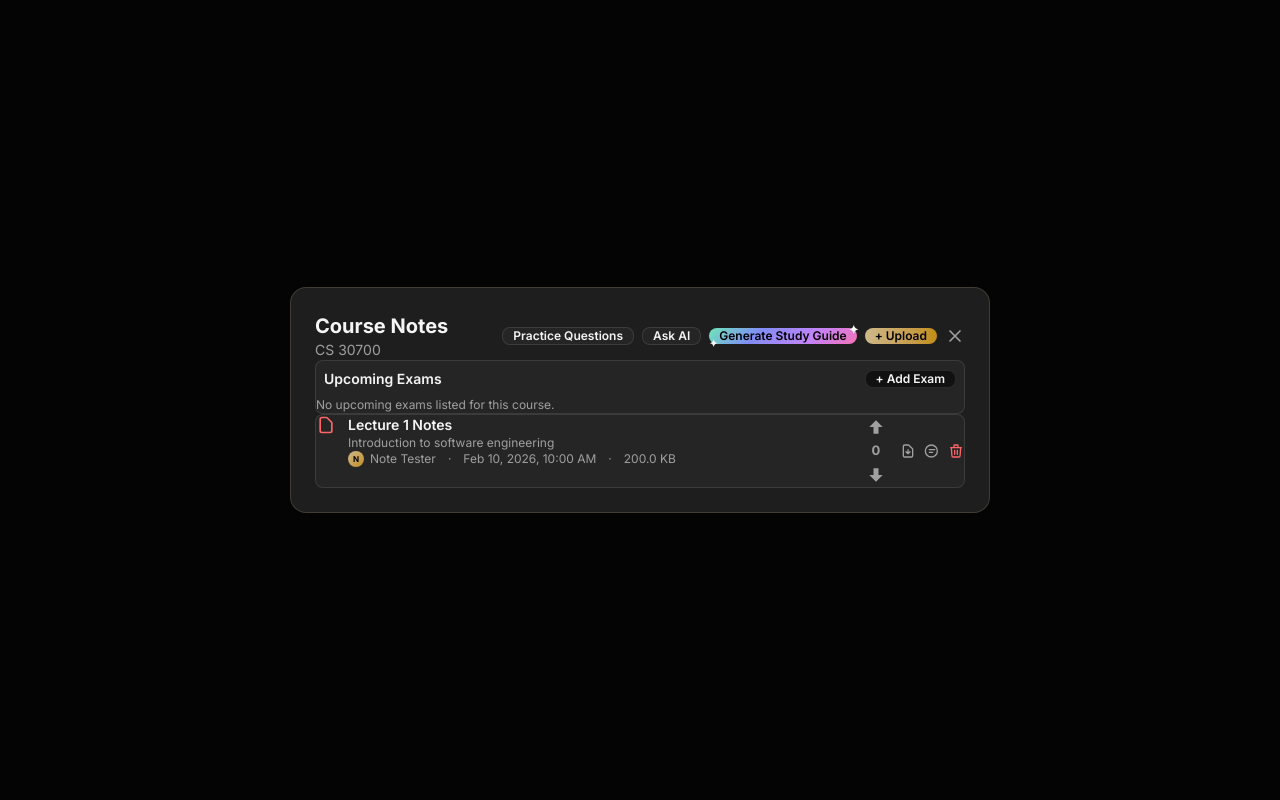
Test: CourseNotes — Actions › deletes a note after confirmation
Expected: the heading "Lecture 1 Notes" is shown, 348,416 -> 452,433
Click the button titled "Delete": click(956, 451) 948,443 -> 964,459
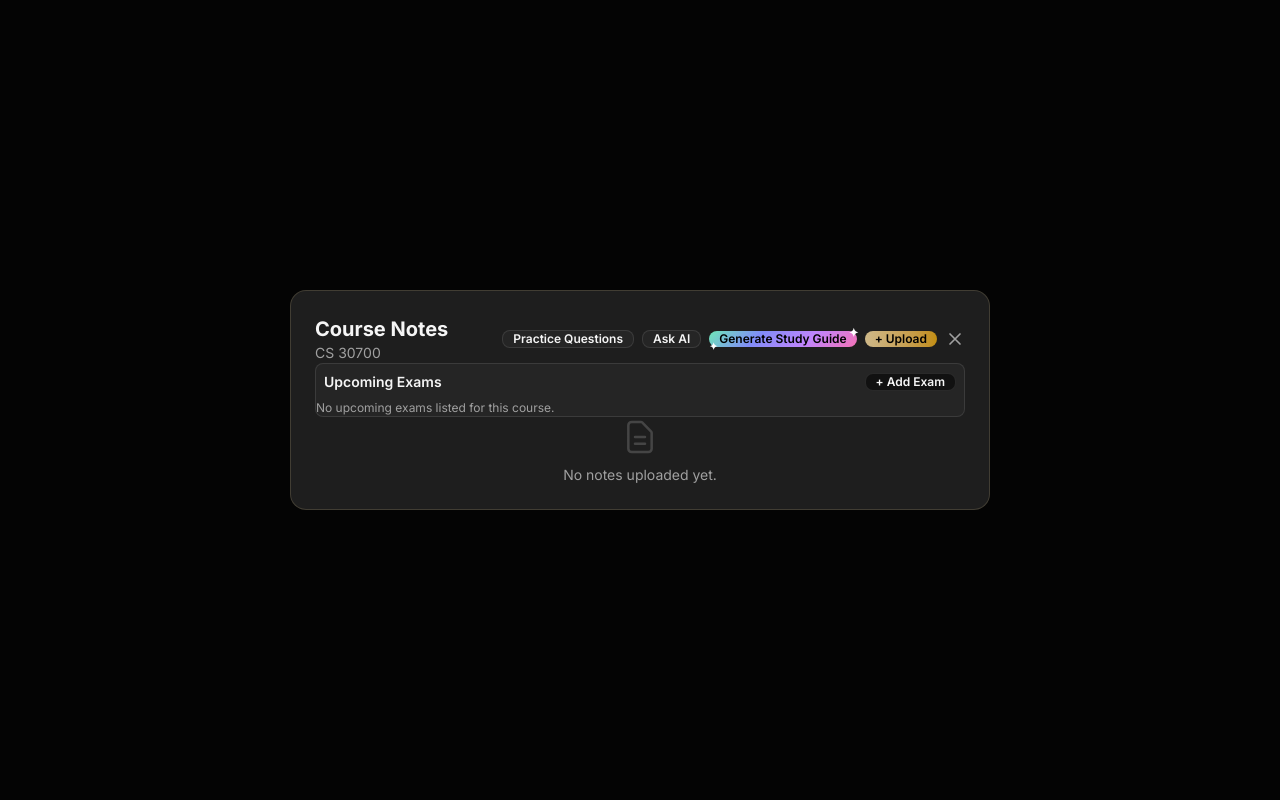
Now the heading "Lecture 1 Notes" is gone
